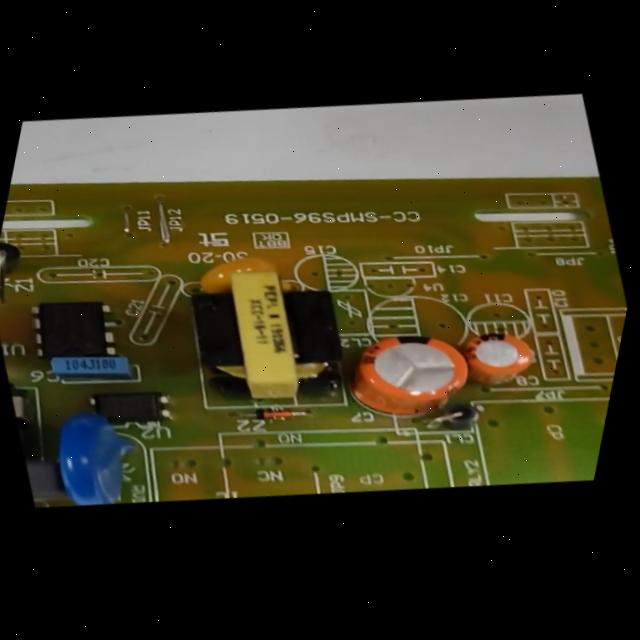Cap1: (327, 316, 489, 437)
Cap2: (447, 318, 549, 397)
MOSFET: (14, 287, 129, 374)
Mov: (28, 404, 146, 518)
Transformer: (161, 242, 383, 428)
